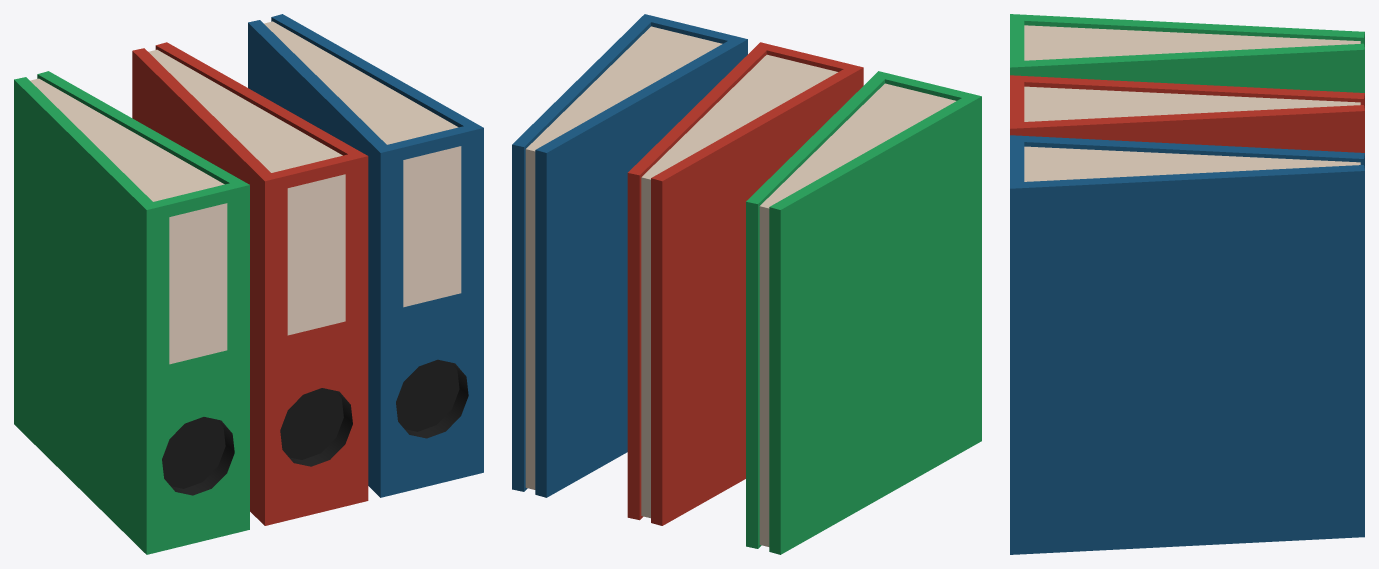
3 views of the same model, side by side, from view 1: azimuth 30°, elevation 25°; view 2: azimuth 150°, elevation 25°; view 3: azimuth 270°, elevation 25° (orthographic). The views are drawn at different scales.
Parts seen in each view (by area): view 1: File-3, File-1, File-2; view 2: File-3, File-1, File-2; view 3: File-2, File-3, File-1.
Part boxes in pixels (box(x1,y1,x2,y2)): File-3: box(14, 71, 249, 554); File-1: box(132, 42, 368, 525); File-2: box(248, 14, 483, 497); File-3: box(746, 71, 981, 554); File-1: box(627, 42, 863, 525); File-2: box(512, 14, 747, 497); File-2: box(1010, 135, 1364, 554); File-3: box(1010, 14, 1364, 92); File-1: box(1010, 75, 1364, 152).
Size of the model in its own units: 0.1383 by 0.1351 by 0.1186.
